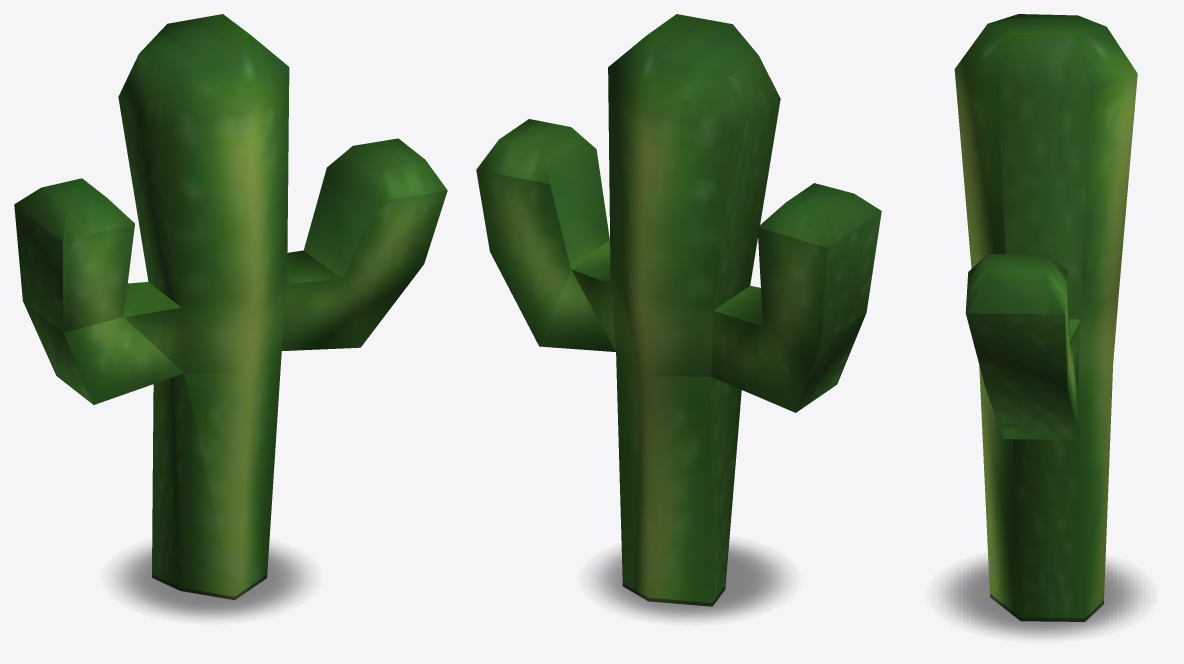
Rendered from cactus.glb.
3 renders of one model, left to right at view 1: azimuth 30°, elevation 25°; view 2: azimuth 150°, elevation 25°; view 3: azimuth 270°, elevation 25°, orthographic. The views are drawn at different scales.
Visible parts, largest first — view 1: cactus_a, shadow_a; view 2: cactus_a, shadow_a; view 3: cactus_a, shadow_a.
Part boxes in pixels (bbox=[...]): cactus_a: bbox=[14, 14, 447, 600]; shadow_a: bbox=[116, 546, 307, 617]; cactus_a: bbox=[476, 14, 881, 606]; shadow_a: bbox=[593, 542, 786, 619]; cactus_a: bbox=[954, 14, 1137, 621]; shadow_a: bbox=[943, 559, 1141, 636].
Size of the model in its own units: 4.94 by 6.99 by 2.86.
Materials: 2 (2 with a texture image).
